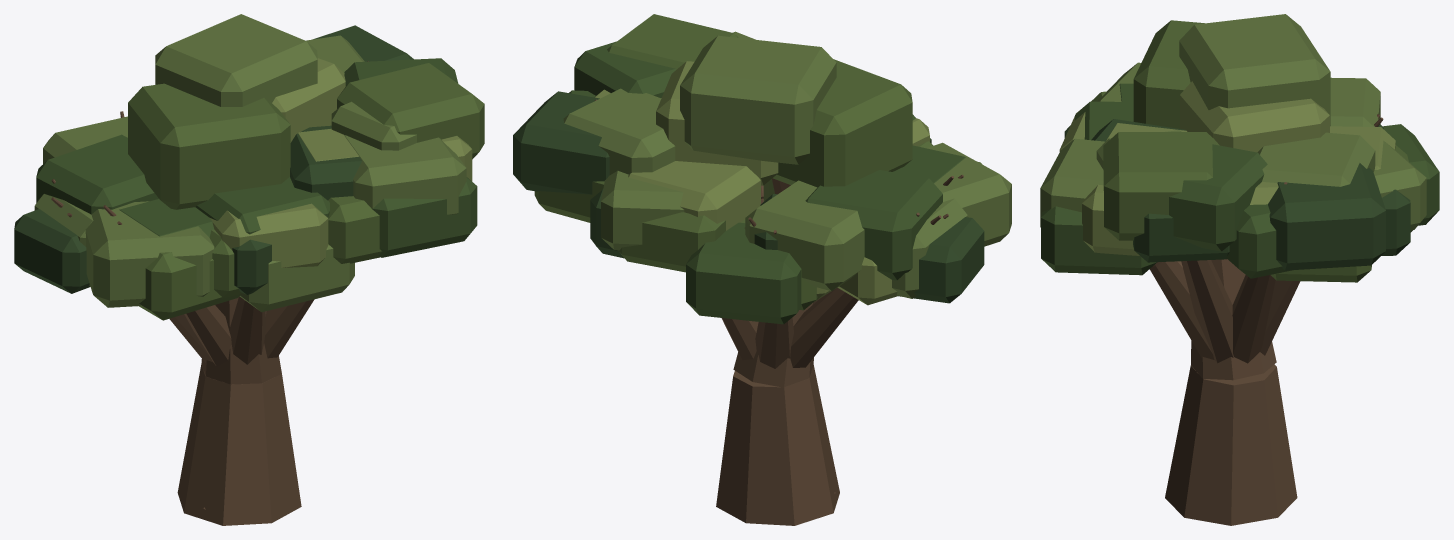
File: apple_ancient_3.glb
3 renders of one model, left to right at view 1: azimuth 30°, elevation 25°; view 2: azimuth 150°, elevation 25°; view 3: azimuth 270°, elevation 25°, orthographic. The views are drawn at different scales.
Visible parts, largest first — view 1: apple_ancient_3; view 2: apple_ancient_3; view 3: apple_ancient_3.
Part boxes in pixels (<box>): apple_ancient_3: <box>14,14,484,525</box>; apple_ancient_3: <box>513,14,1011,525</box>; apple_ancient_3: <box>1040,14,1439,525</box>.
Size of the model in its own units: 17.42 by 18 by 14.14.
